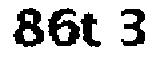3: (113, 5, 148, 47)
6: (45, 6, 79, 50)
8: (11, 6, 46, 52)
t: (79, 11, 103, 51)
